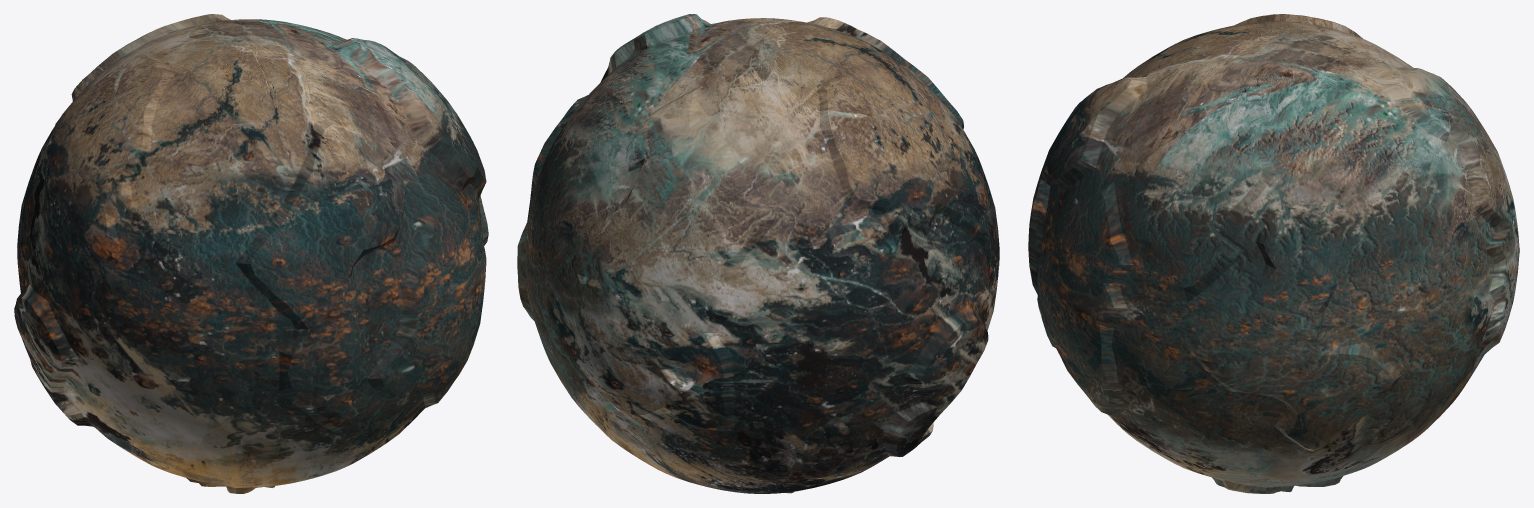
File: planet1.FBX
The picture shows the model from 3 angles, left to right: view 1: azimuth 30°, elevation 25°; view 2: azimuth 150°, elevation 25°; view 3: azimuth 270°, elevation 25°; orthographic projection. The views are drawn at different scales.
Parts seen in each view (by area): view 1: Sphere002; view 2: Sphere002; view 3: Sphere002.
Boxes of the visible parts, x1,y1,x2,y2 form: Sphere002: [14, 14, 488, 493]; Sphere002: [517, 14, 999, 493]; Sphere002: [1028, 14, 1519, 493].
Size of the model in its own units: 40.69 by 39.67 by 41.06.
